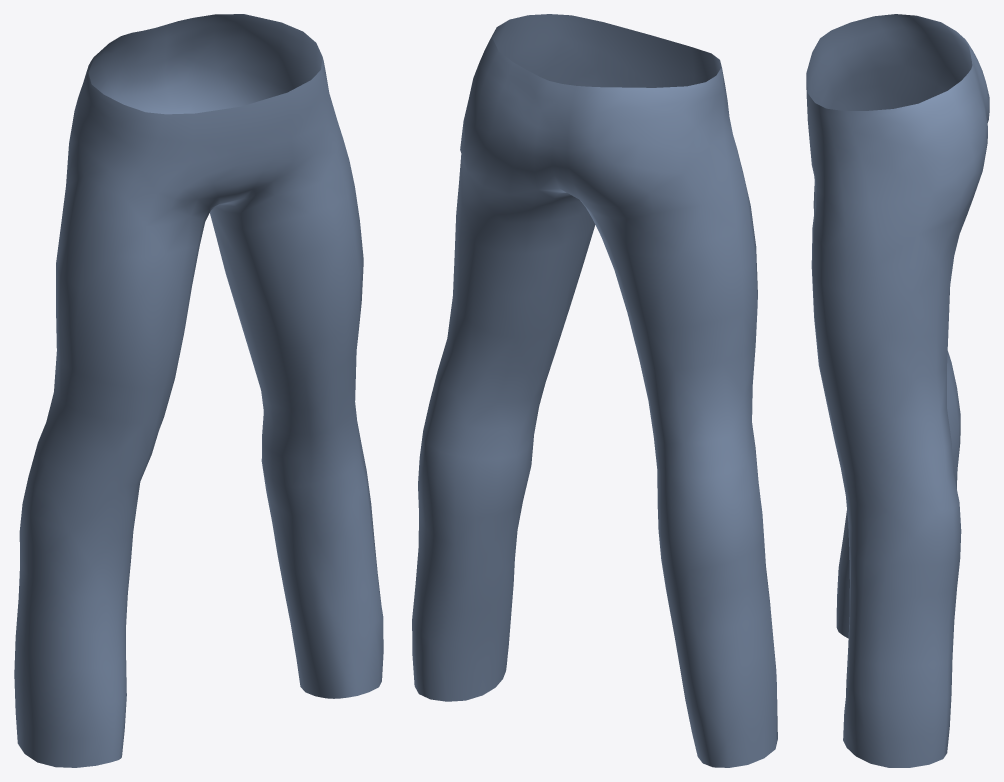
The model's file is trousers_male.glb.
3 views of the same model, side by side, from view 1: azimuth 30°, elevation 25°; view 2: azimuth 150°, elevation 25°; view 3: azimuth 270°, elevation 25° (orthographic). The views are drawn at different scales.
Parts seen in each view (by area): view 1: jeans; view 2: jeans; view 3: jeans.
Part boxes in pixels (x1,y1,x2,y2): jeans: (14,14,383,767); jeans: (412,14,777,767); jeans: (806,14,989,767).
Bounding box in the file's own units: 0.5042 × 0.9302 × 0.2439.
